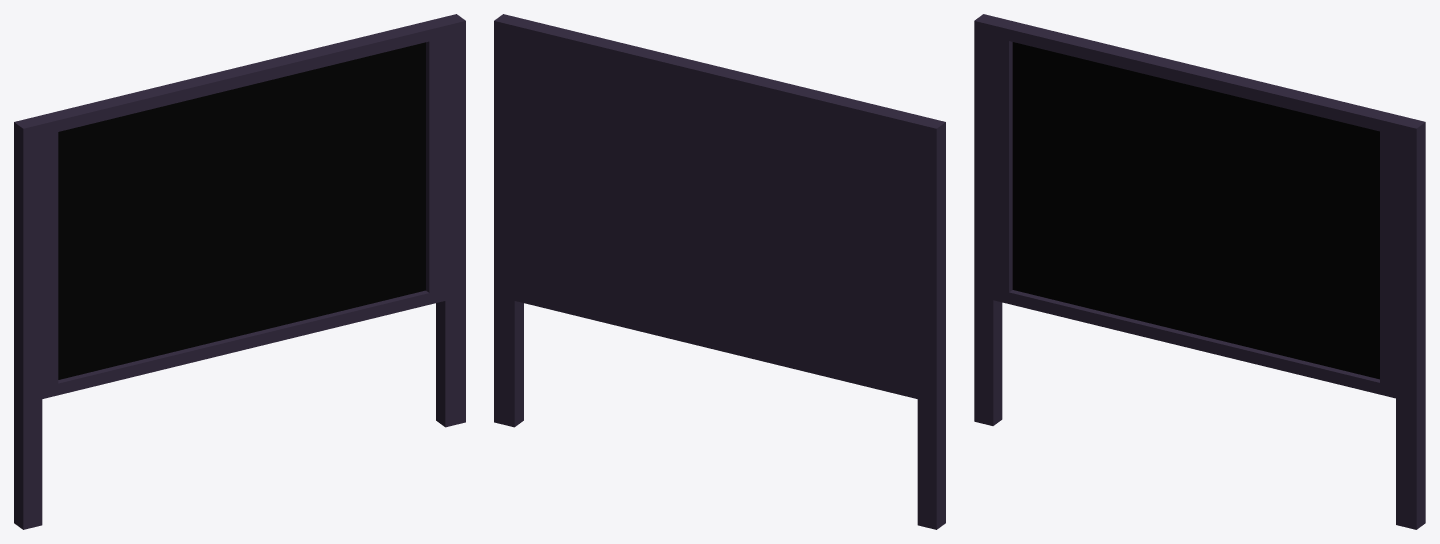
The model's file is whiteboard.fbx.
3 views of the same model, side by side, from view 1: azimuth 30°, elevation 25°; view 2: azimuth 150°, elevation 25°; view 3: azimuth 330°, elevation 25° (orthographic).
Parts seen in each view (by area): view 1: WhteBoard; view 2: WhteBoard; view 3: WhteBoard.
Part boxes in pixels (box(x1,y1,x2,y2)): WhteBoard: box(14, 14, 465, 529); WhteBoard: box(494, 14, 945, 529); WhteBoard: box(974, 14, 1425, 529).
Size of the model in its own units: 2.2 by 1.9 by 0.08.
Materials: 2 (2 with a texture image).
